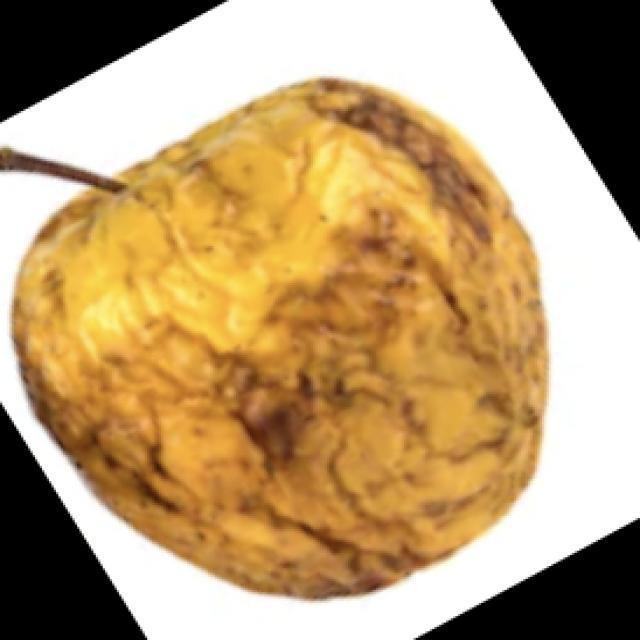Rotten: (38, 95, 552, 583)
